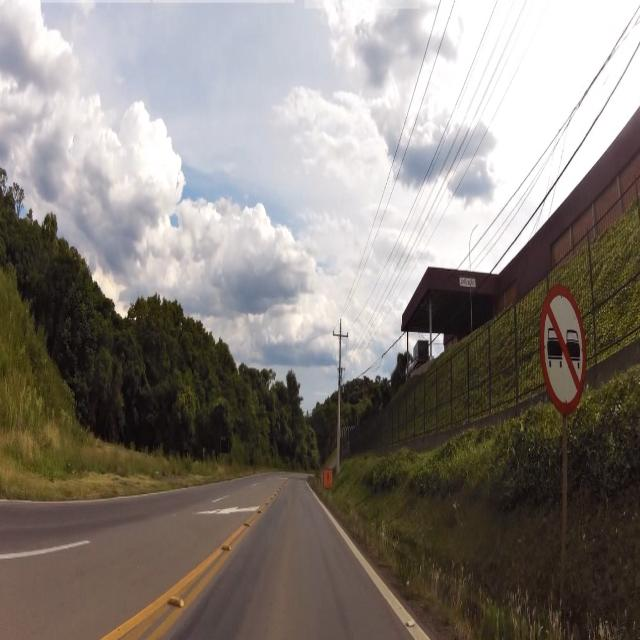R-7: (534, 283, 598, 420)
